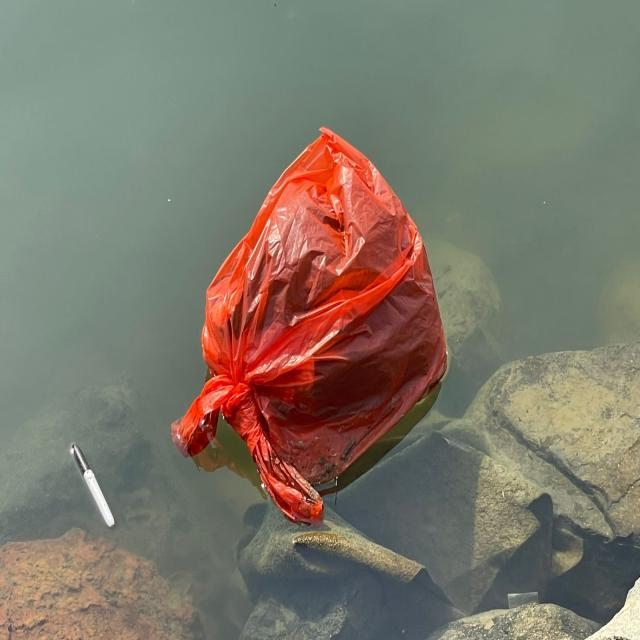Kantong Plastik: (181, 120, 452, 526)
